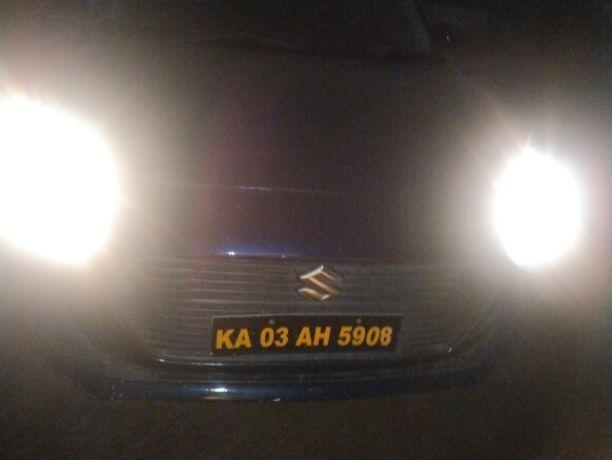license_plate: (122, 249, 498, 391), (208, 311, 404, 357)
